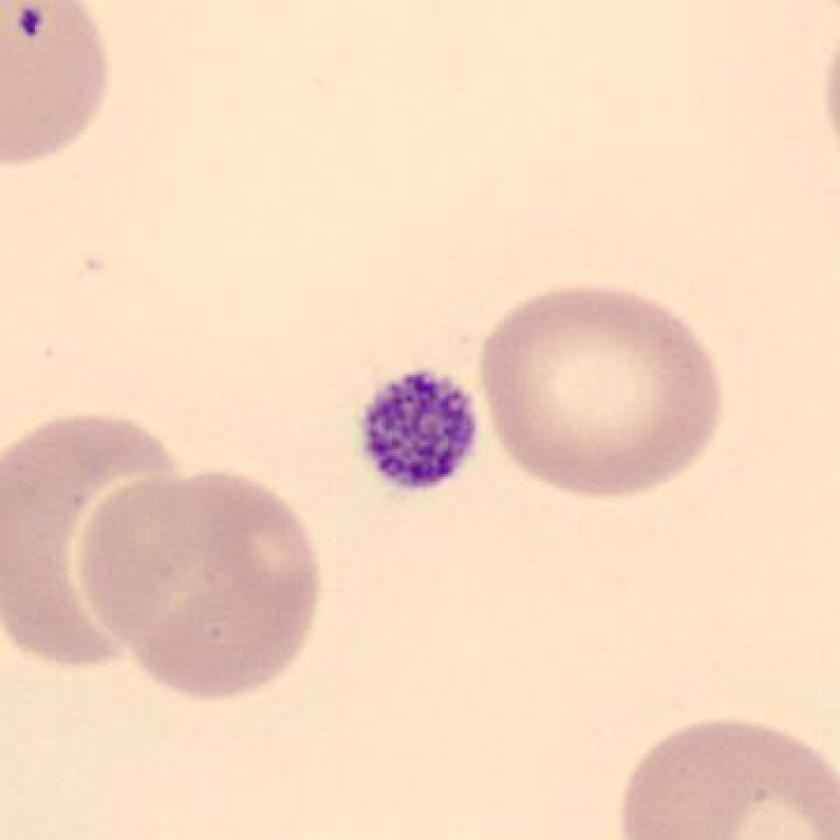platelets: (349, 364, 484, 503)
